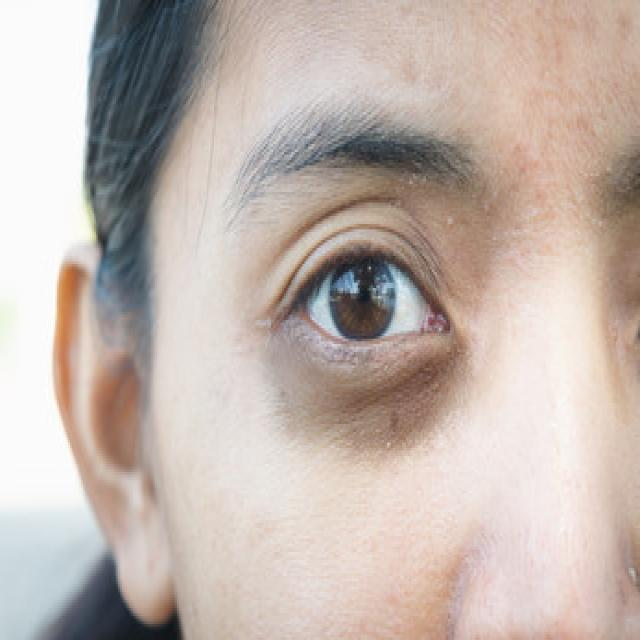Eyebags: (265, 331, 446, 443)
